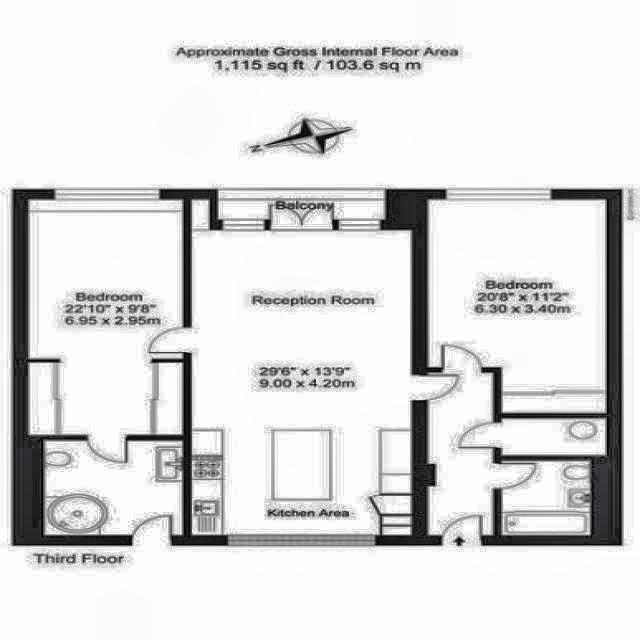room: (191, 230, 412, 534), (427, 199, 607, 413), (30, 200, 183, 359), (45, 440, 182, 534), (29, 363, 183, 434), (427, 373, 493, 535), (502, 460, 590, 535), (501, 419, 604, 455), (218, 199, 385, 220)
